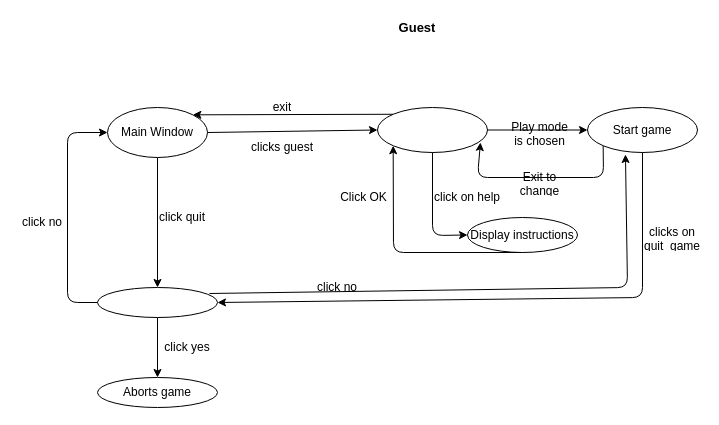
Image size: 719x425. Some labels were removed from this diagram. The shapes that lost their labels are listed below. From the top down, each one's centre as x and y in pixels, then its label:
At point (432, 129): "Ask for play mode".
At point (157, 302): "Conformation".
